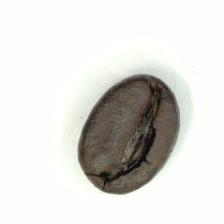NG: (99, 79, 169, 190)
